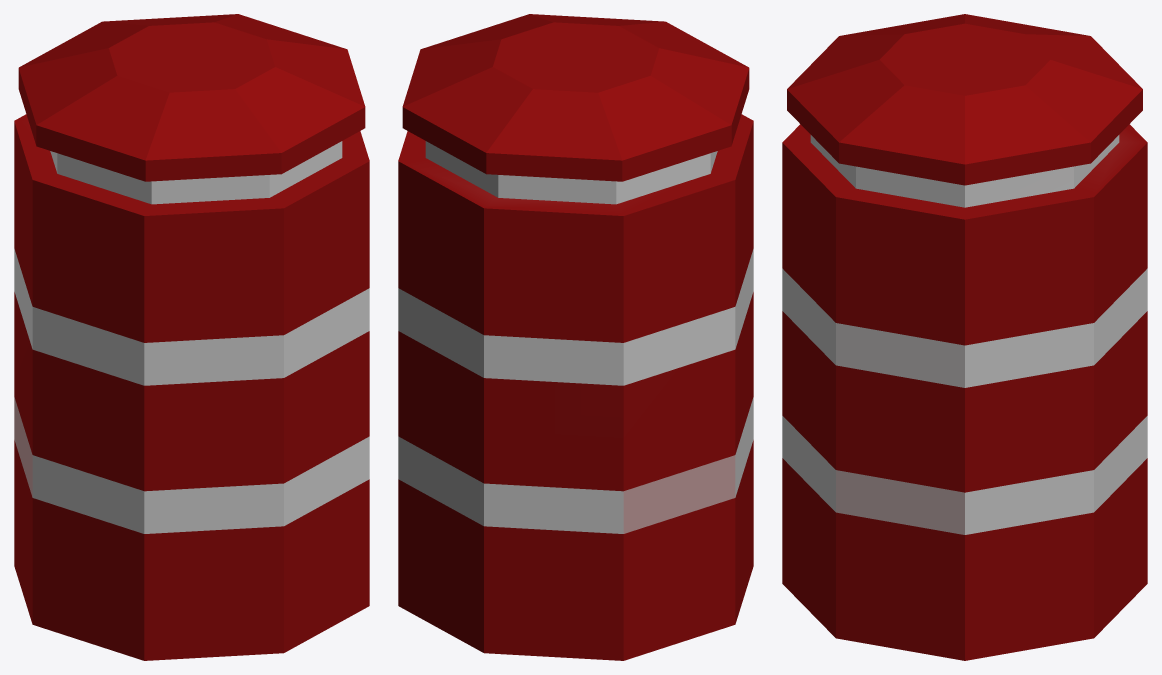
The model's file is SM_bumper03.FBX.
The picture shows the model from 3 angles, left to right: view 1: azimuth 30°, elevation 25°; view 2: azimuth 150°, elevation 25°; view 3: azimuth 270°, elevation 25°; orthographic projection.
Parts seen in each view (by area): view 1: Cylinder001; view 2: Cylinder001; view 3: Cylinder001.
Part boxes in pixels (x1=…): Cylinder001: x1=14, y1=14, x2=369, y2=660; Cylinder001: x1=398, y1=14, x2=753, y2=660; Cylinder001: x1=782, y1=14, x2=1147, y2=660.
Size of the model in its own units: 60 by 95.01 by 60.
